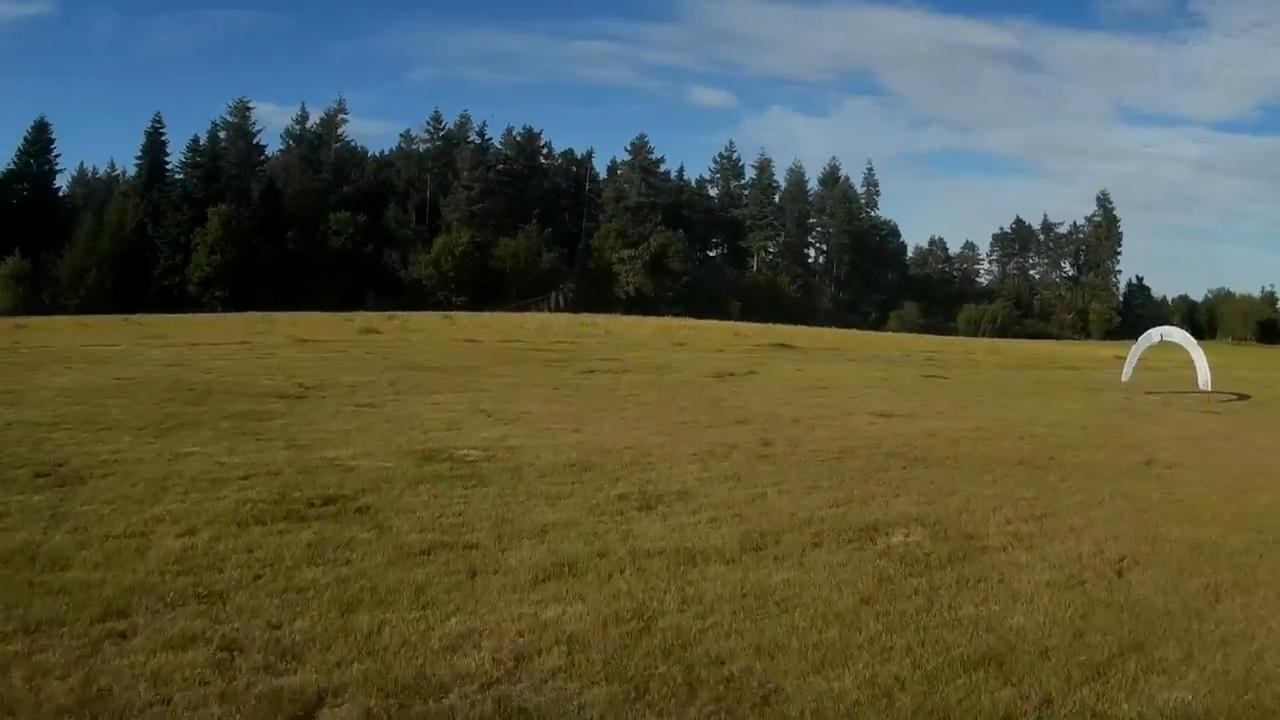gate: (1122, 325, 1210, 392)
